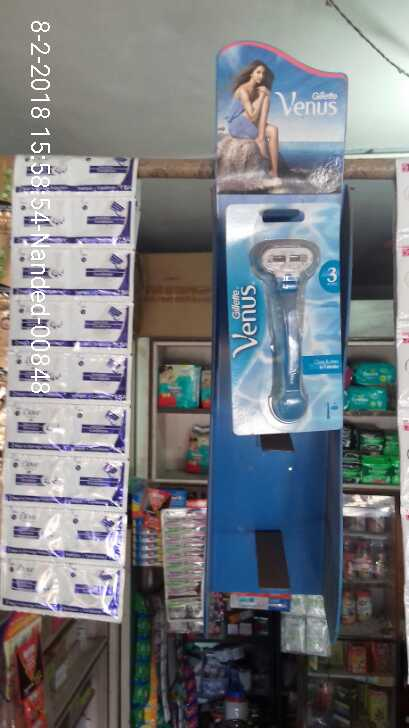venus: (224, 195, 351, 435)
